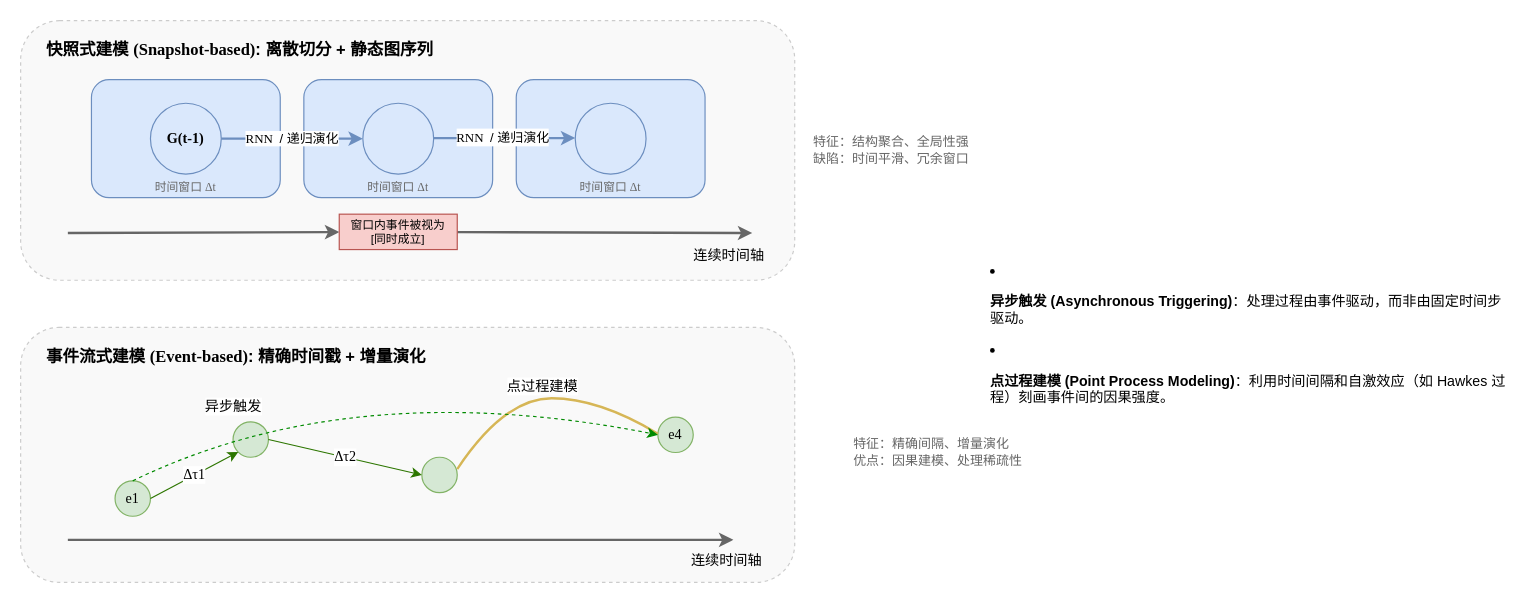
Image size: 1535x603. Some labels were removed from this diagram. Here are the shapes that lost their labels. From the top down, the centre of each, then its label:
point (398, 138): G(t)
point (610, 138): G(t+1)
point (250, 439): e2
point (439, 474): e3
